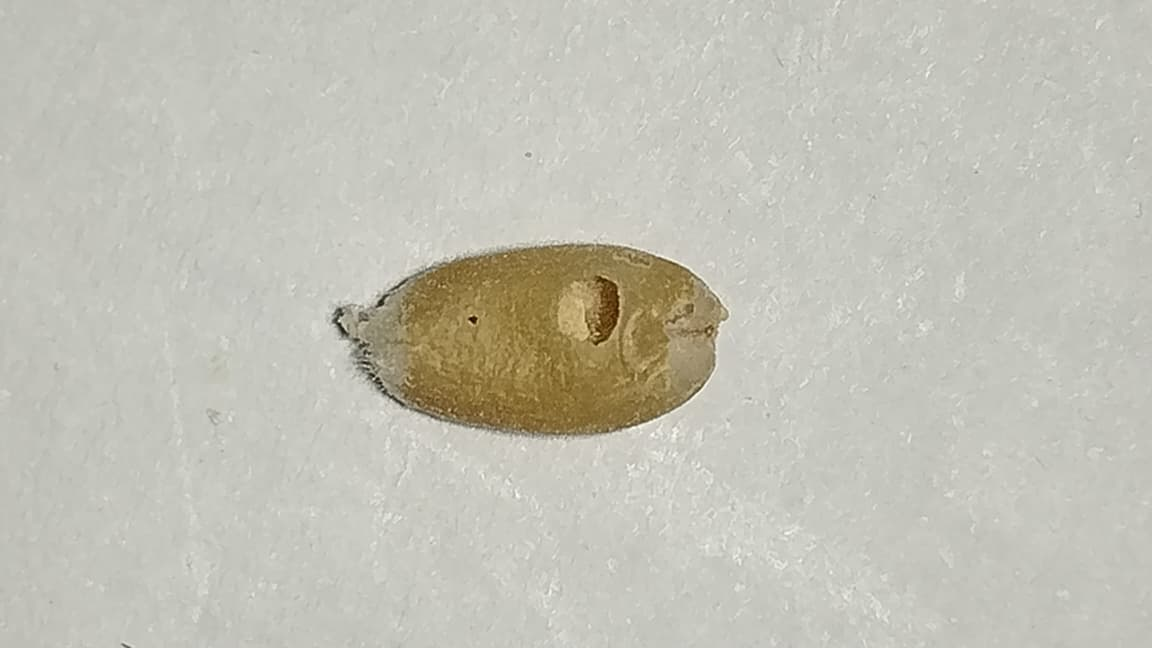damage: (342, 243, 727, 436)
insectdamage: (542, 273, 628, 351)
